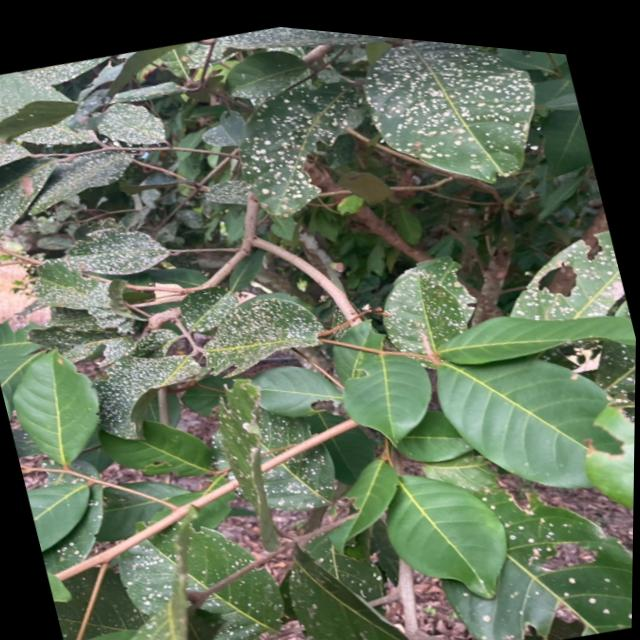Algal Leaf Spot: (204, 16, 553, 237), (31, 195, 307, 436), (0, 43, 158, 265)
